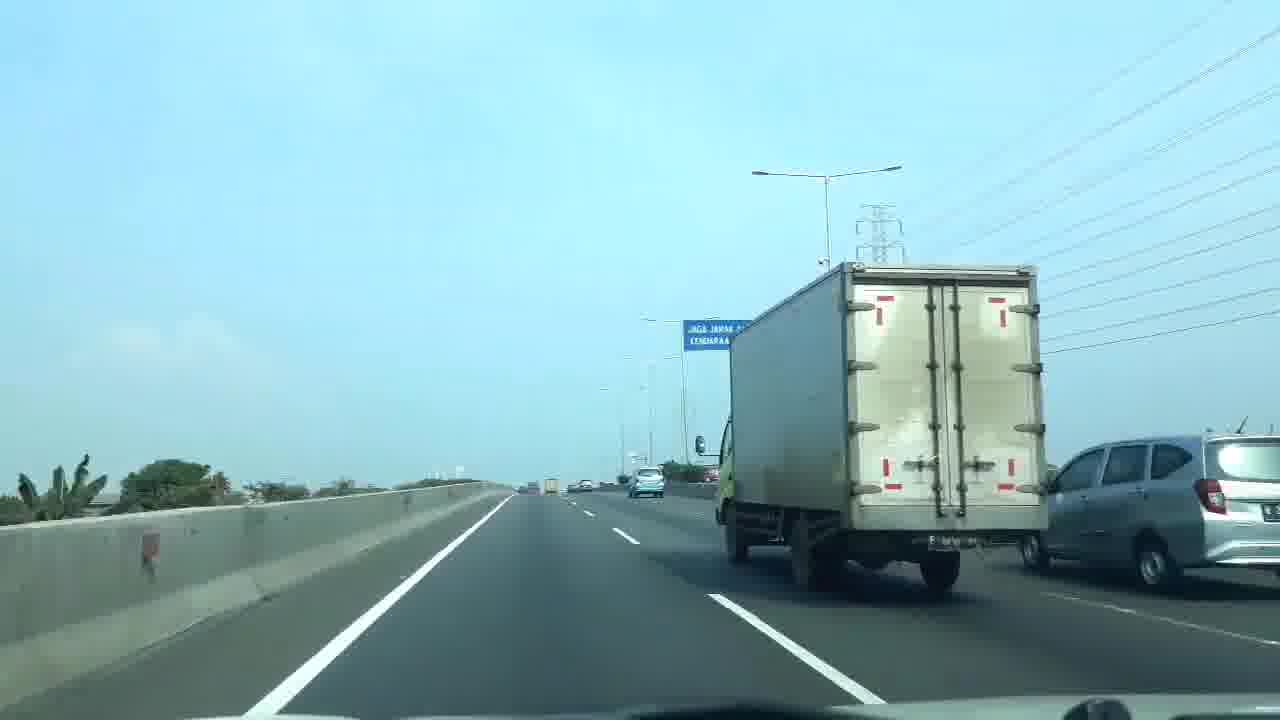plate_positive: (926, 533, 989, 551)
